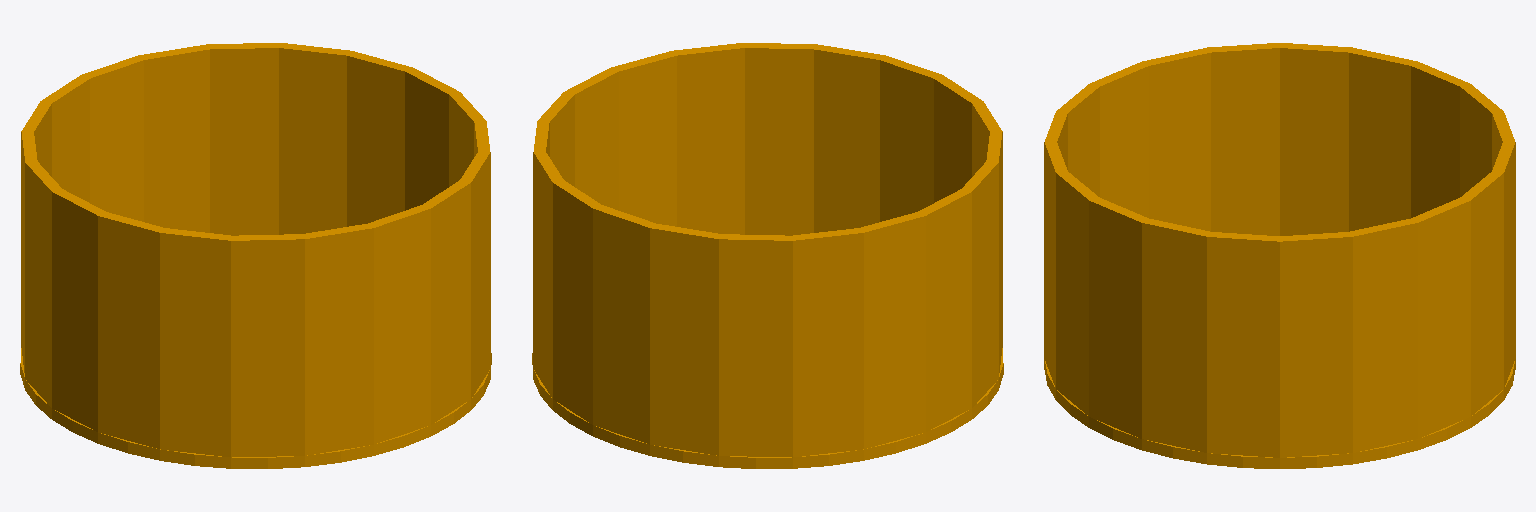
URDF robot description (placement_receiver_v2):
<?xml version='1.0' encoding='utf-8'?>
<robot name="placement_receiver_v2">
  <link name="body">
    <inertial>
      <origin xyz="-4.0115480381963664e-17 -1.0299920638612292e-17 0.056866050262472004" />
      <mass value="0.4" />
      <inertia ixx="0.004616794050952597" iyy="0.004616794050952594" izz="0.007066721469684226" ixy="-2.1017005003747327e-20" ixz="-4.891926887608378e-19" iyz="2.5388195821344965e-19" />
    </inertial>
    <collision>
      <geometry>
        <mesh filename="part_00.obj" />
      </geometry>
    </collision>
    <collision>
      <geometry>
        <mesh filename="part_01.obj" />
      </geometry>
    </collision>
    <collision>
      <geometry>
        <mesh filename="part_02.obj" />
      </geometry>
    </collision>
    <collision>
      <geometry>
        <mesh filename="part_03.obj" />
      </geometry>
    </collision>
    <collision>
      <geometry>
        <mesh filename="part_04.obj" />
      </geometry>
    </collision>
    <collision>
      <geometry>
        <mesh filename="part_05.obj" />
      </geometry>
    </collision>
    <collision>
      <geometry>
        <mesh filename="part_06.obj" />
      </geometry>
    </collision>
    <collision>
      <geometry>
        <mesh filename="part_07.obj" />
      </geometry>
    </collision>
    <collision>
      <geometry>
        <mesh filename="part_08.obj" />
      </geometry>
    </collision>
    <collision>
      <geometry>
        <mesh filename="part_09.obj" />
      </geometry>
    </collision>
    <collision>
      <geometry>
        <mesh filename="part_10.obj" />
      </geometry>
    </collision>
    <collision>
      <geometry>
        <mesh filename="part_11.obj" />
      </geometry>
    </collision>
    <collision>
      <geometry>
        <mesh filename="part_12.obj" />
      </geometry>
    </collision>
    <collision>
      <geometry>
        <mesh filename="part_13.obj" />
      </geometry>
    </collision>
    <collision>
      <geometry>
        <mesh filename="part_14.obj" />
      </geometry>
    </collision>
    <collision>
      <geometry>
        <mesh filename="part_15.obj" />
      </geometry>
    </collision>
    <collision>
      <geometry>
        <mesh filename="part_16.obj" />
      </geometry>
    </collision>
    <collision>
      <geometry>
        <mesh filename="part_17.obj" />
      </geometry>
    </collision>
    <collision>
      <geometry>
        <mesh filename="part_18.obj" />
      </geometry>
    </collision>
    <collision>
      <geometry>
        <mesh filename="part_19.obj" />
      </geometry>
    </collision>
    <collision>
      <geometry>
        <mesh filename="part_20.obj" />
      </geometry>
    </collision>
    <visual>
      <geometry>
        <mesh filename="visual.obj" />
      </geometry>
    </visual>
  </link>
</robot>

--- What the picture shows (computed from the rendered views, not written in the file) ---
The picture shows the robot from 3 angles, left to right: view 1: azimuth 30°, elevation 25°; view 2: azimuth 150°, elevation 25°; view 3: azimuth 270°, elevation 25°; orthographic projection.
Model placement_receiver_v2 with 1 links and 0 joints (none), rooted at body, posed every joint at zero.
Visible links, largest first — view 1: body; view 2: body; view 3: body.
Link boxes in pixels (left/top/right/bottom): body: left=20, top=43, right=491, bottom=468; body: left=532, top=43, right=1003, bottom=468; body: left=1044, top=43, right=1515, bottom=468.
Bounding box of the posed robot: 0.3 × 0.3 × 0.16 m (x, y, z).
1 mesh visuals loaded from 1 distinct referenced files (1 OBJ).
